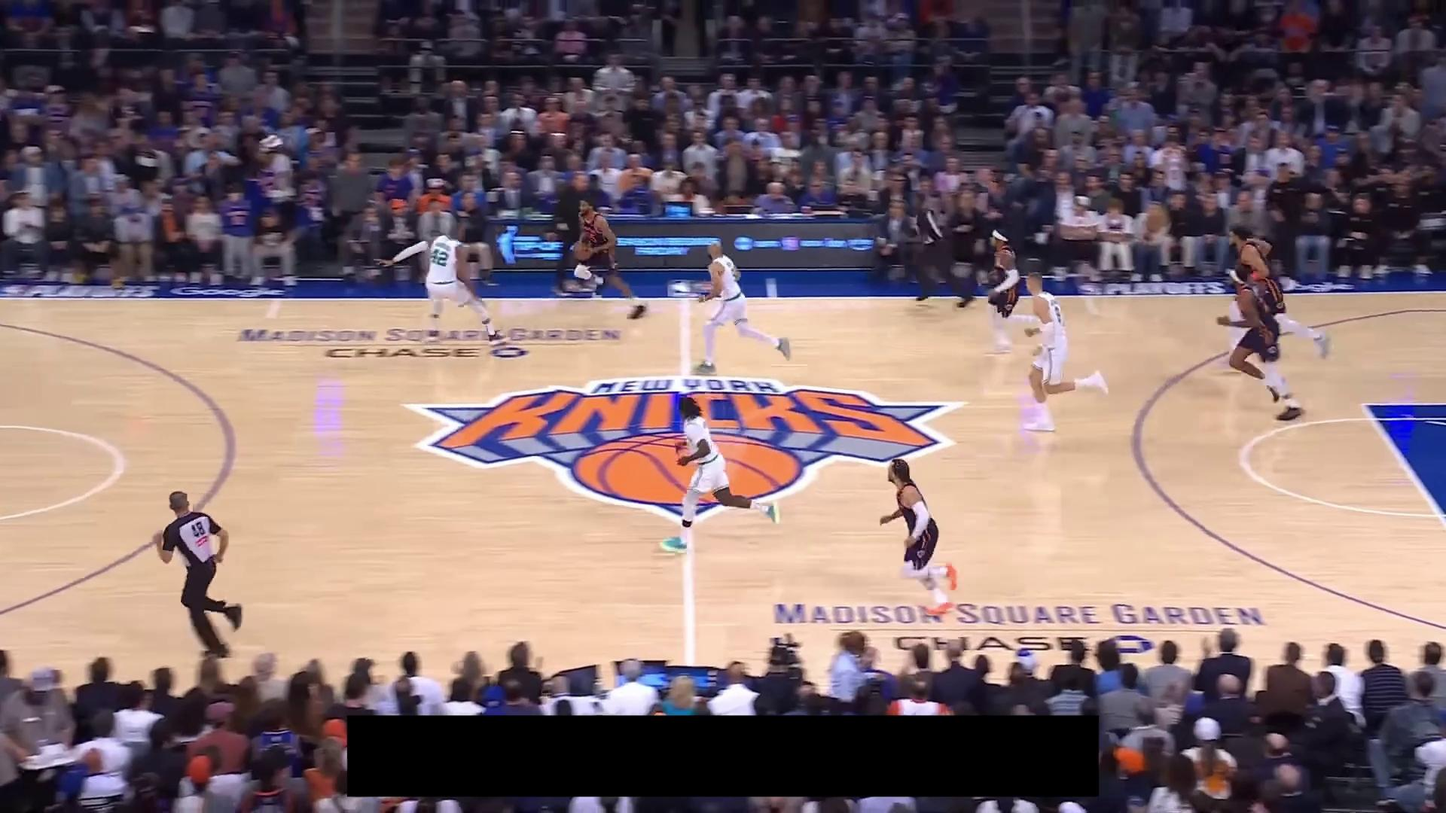ball: (573, 240, 593, 260)
number: (432, 248, 448, 266)
player: (658, 392, 779, 555), (373, 214, 505, 347), (1017, 270, 1109, 432), (1225, 224, 1331, 361), (691, 237, 793, 376), (1215, 266, 1305, 422), (877, 457, 959, 617), (982, 228, 1036, 356)
player-in-possession: (571, 195, 651, 321)
referee: (154, 489, 244, 665), (908, 198, 978, 308)
